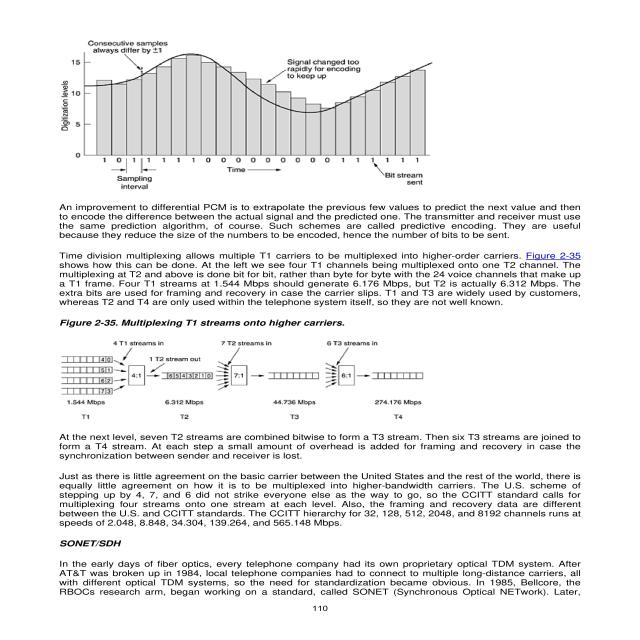diagram: (44, 30, 479, 194), (34, 312, 458, 427)
